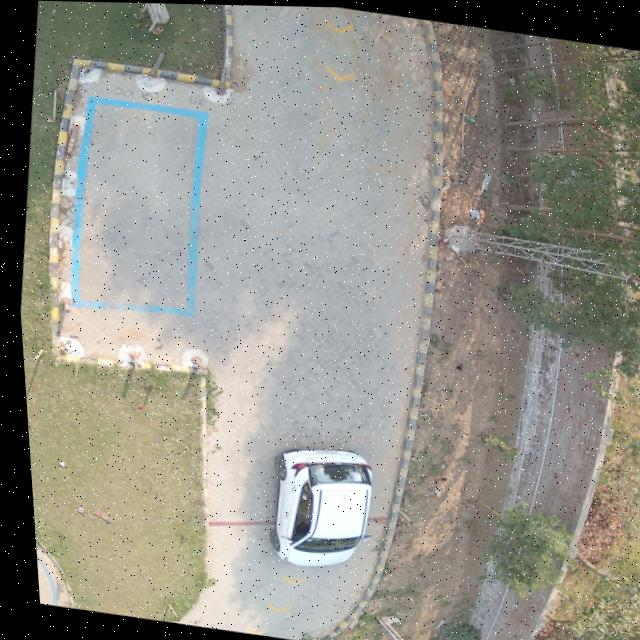car: (260, 446, 365, 565)
